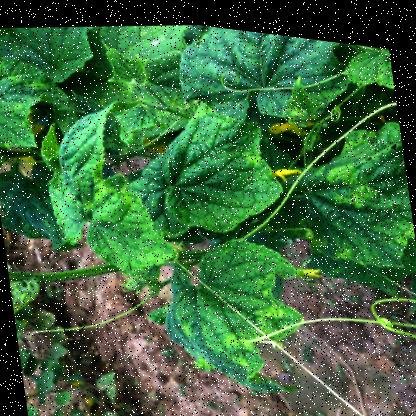CassavaMosaicDisease: (160, 237, 291, 381), (298, 98, 416, 252), (172, 17, 350, 112), (160, 99, 280, 221), (82, 12, 180, 138), (54, 184, 148, 275), (0, 16, 93, 84), (0, 60, 44, 154)
